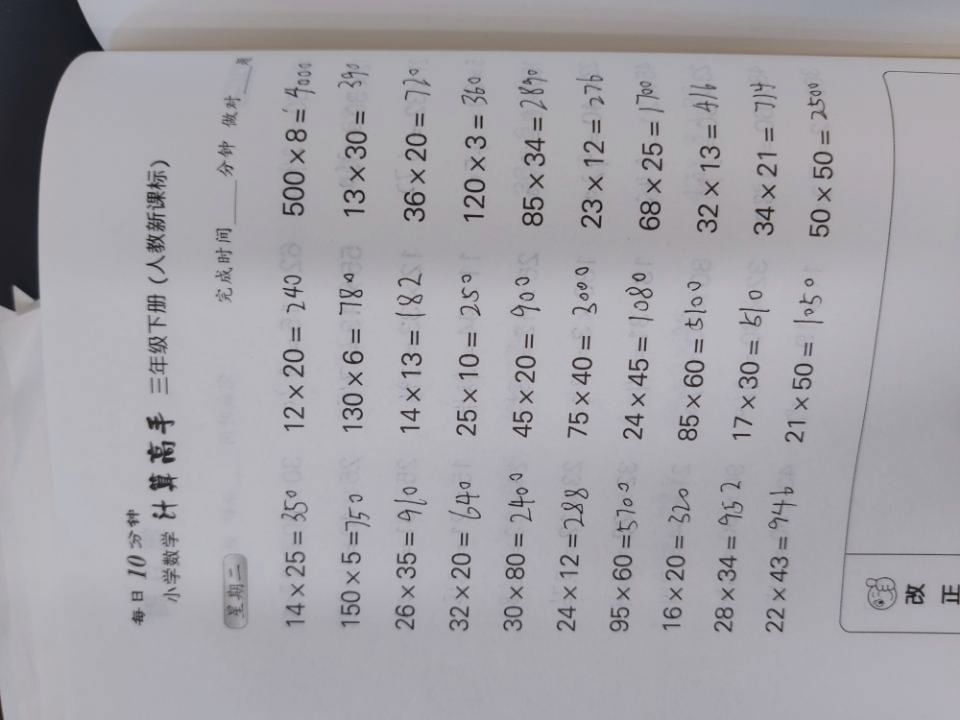equation: (269, 259, 325, 444), (667, 263, 723, 448), (612, 263, 668, 448), (558, 261, 614, 446), (385, 265, 441, 450), (317, 260, 373, 445), (433, 261, 489, 446), (497, 260, 553, 445), (775, 268, 831, 453), (683, 68, 739, 253), (628, 66, 684, 251), (565, 61, 621, 246), (511, 58, 567, 243), (448, 60, 504, 245), (391, 53, 447, 238), (323, 52, 379, 237), (266, 53, 322, 238), (757, 470, 813, 655), (792, 58, 848, 243), (738, 55, 794, 240), (546, 460, 602, 645), (490, 465, 546, 650), (434, 466, 490, 651), (379, 465, 435, 650), (325, 469, 381, 654), (654, 460, 710, 645), (596, 457, 652, 642), (723, 263, 779, 448), (273, 481, 320, 636), (712, 471, 753, 641)
